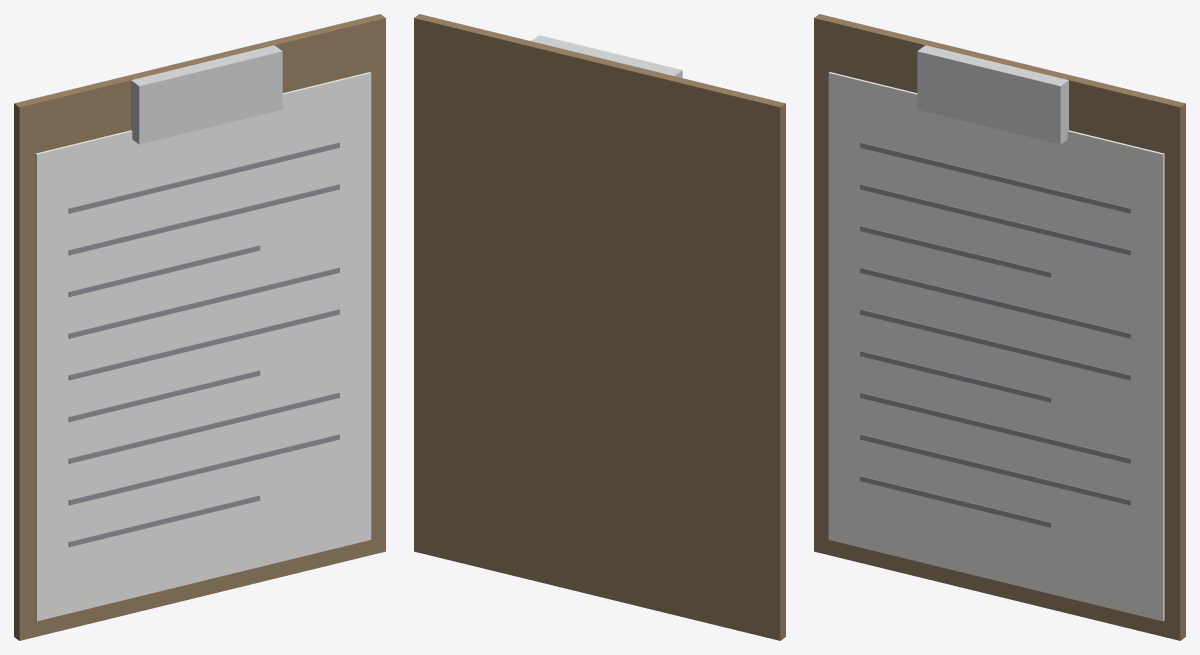
Rendered from clipboard.glb.
3 renders of one model, left to right at view 1: azimuth 30°, elevation 25°; view 2: azimuth 150°, elevation 25°; view 3: azimuth 330°, elevation 25°, orthographic.
Parts seen in each view (by area): view 1: clipboard; view 2: clipboard; view 3: clipboard.
Part boxes in pixels (x1,y1,x2,y2): clipboard: (14, 14, 385, 640); clipboard: (414, 14, 785, 640); clipboard: (814, 14, 1185, 640).
Bounding box in the file's own units: 0.23 × 0.32 × 0.015.
